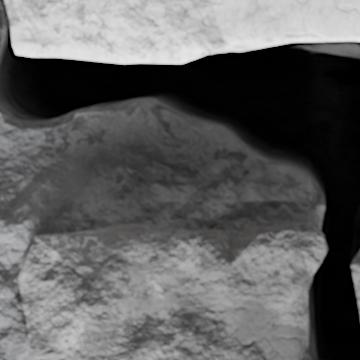brick: (5, 0, 359, 62)
broken_brick: (18, 219, 325, 359), (352, 261, 359, 301)
crack: (0, 2, 359, 359)
